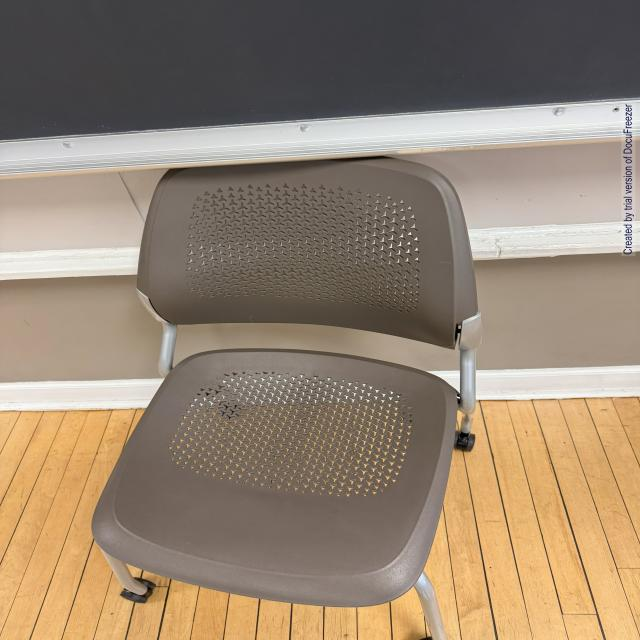chair: (84, 146, 493, 640)
